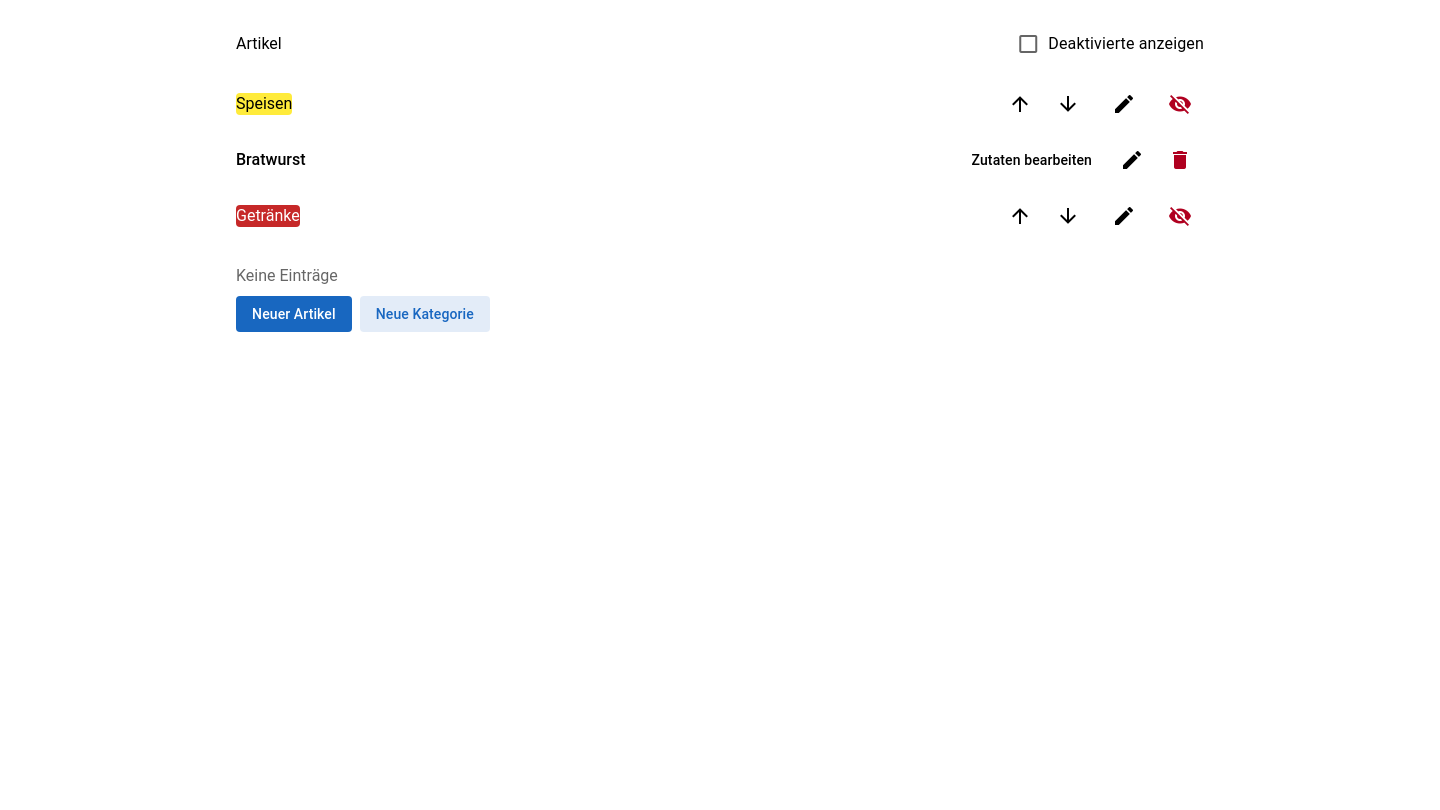
Scenario: the controls beside a category name › say why the laptop kept the category active
Expected: the element with test id "category-section" that starts with "Speisen" is shown, 236,72 -> 1204,184
Step 1. Click the 1st button with test id "deactivate-category" → [1180, 104], box 1156,80 -> 1204,128
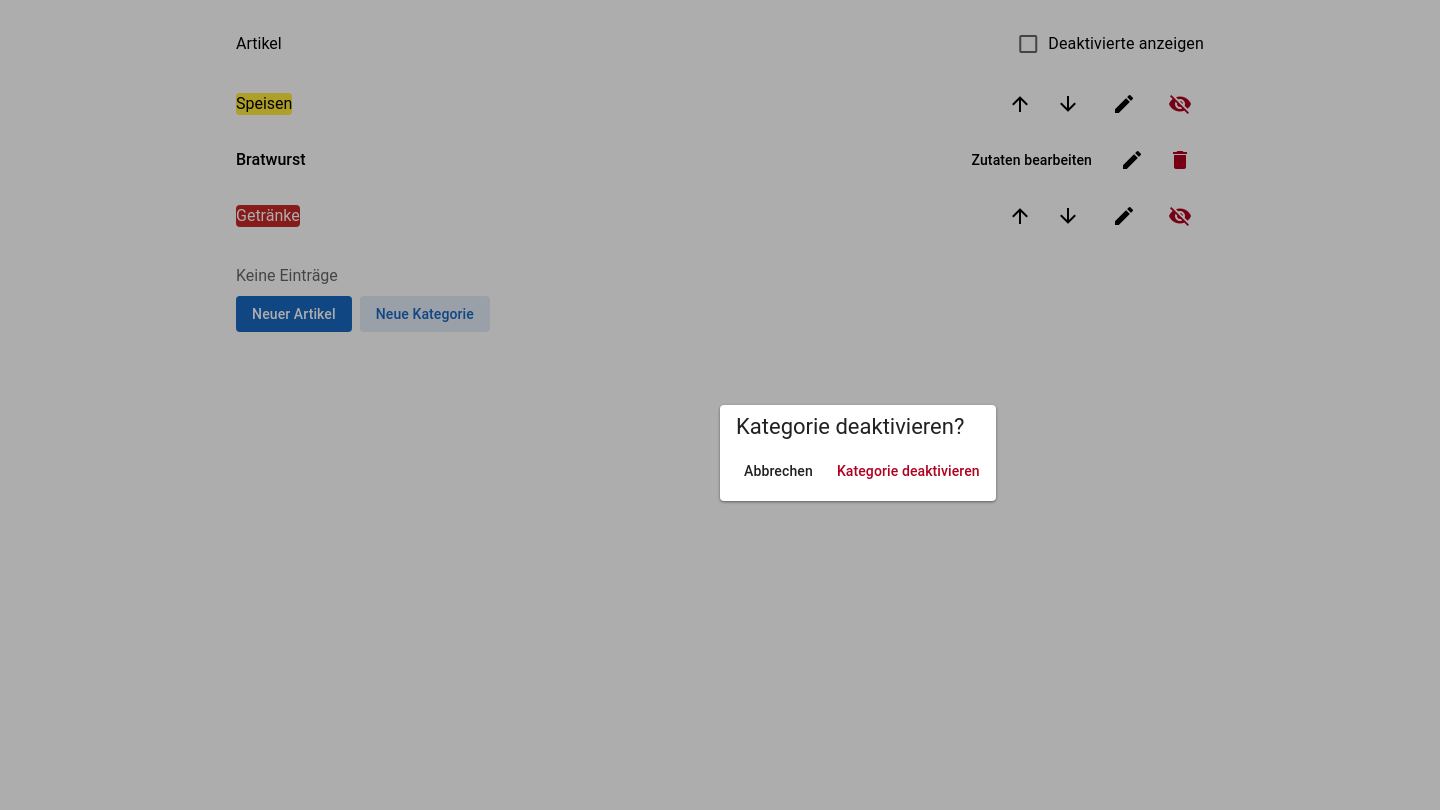
Expected: the element with test id "confirm-dialog" is shown, 720,405 -> 996,501
Step 2. Click the button with test id "confirm" → [908, 471], box 829,453 -> 988,489
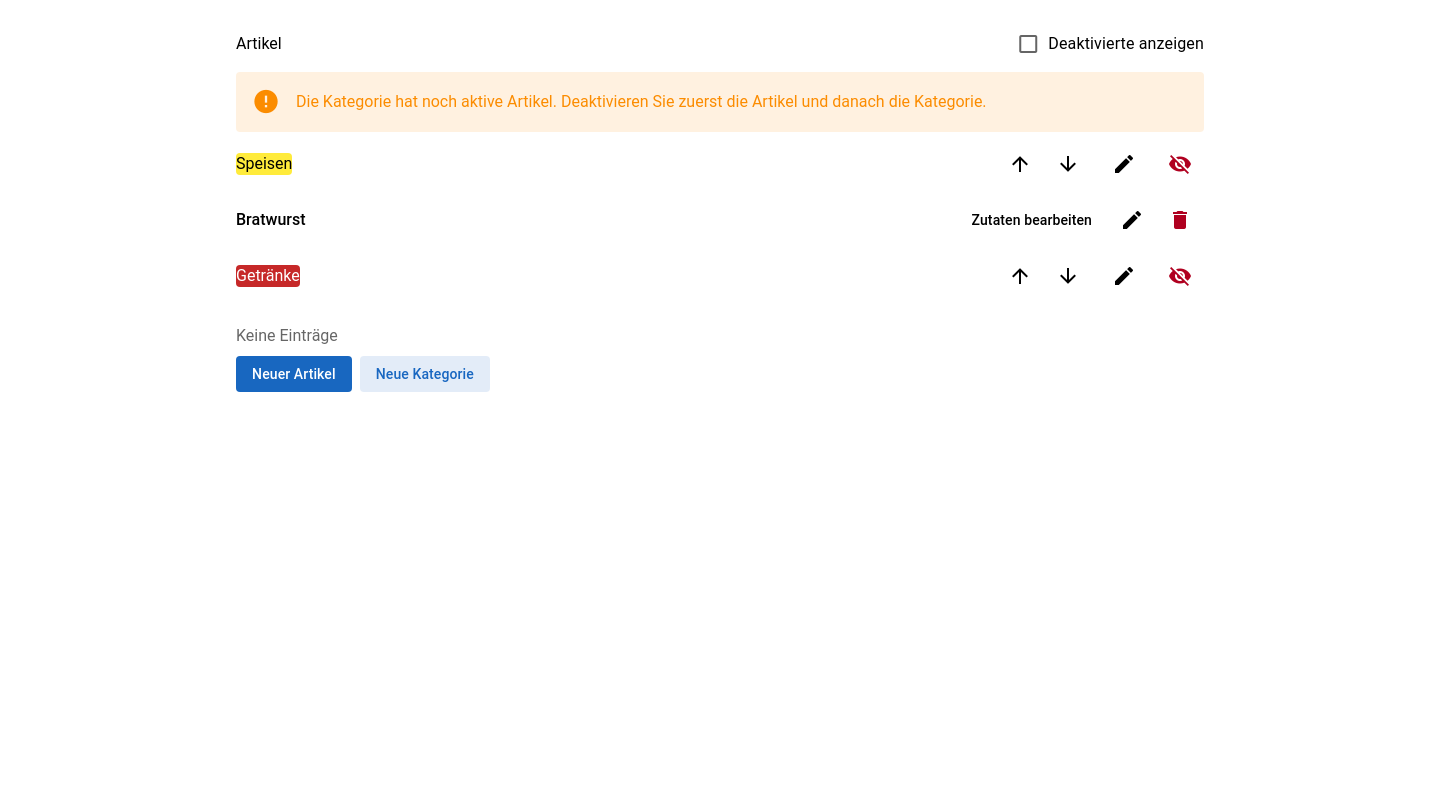
Expected: the element with test id "category-refusal" shows "Die Kategorie hat noch aktive Artikel.", 296,92 -> 987,111
